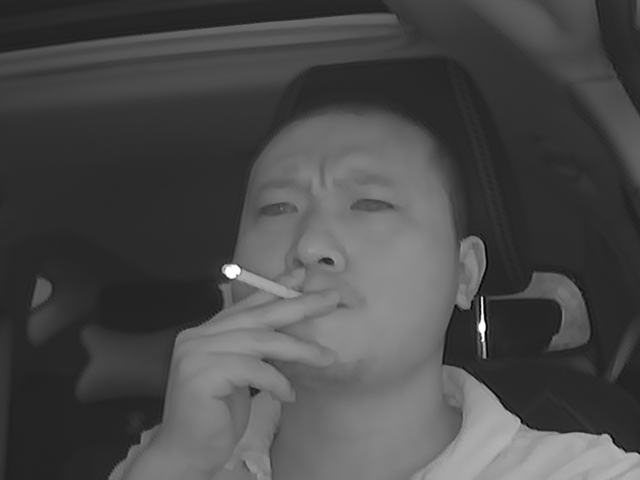hand: (175, 266, 334, 419)
